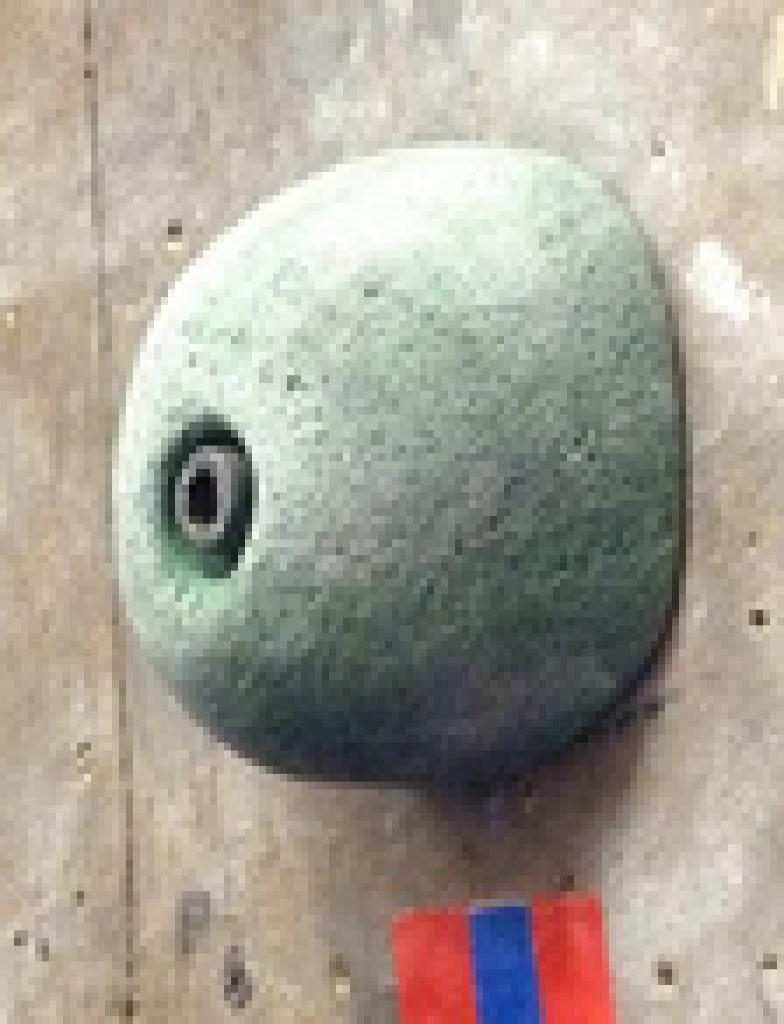sloper: (112, 141, 679, 766)
